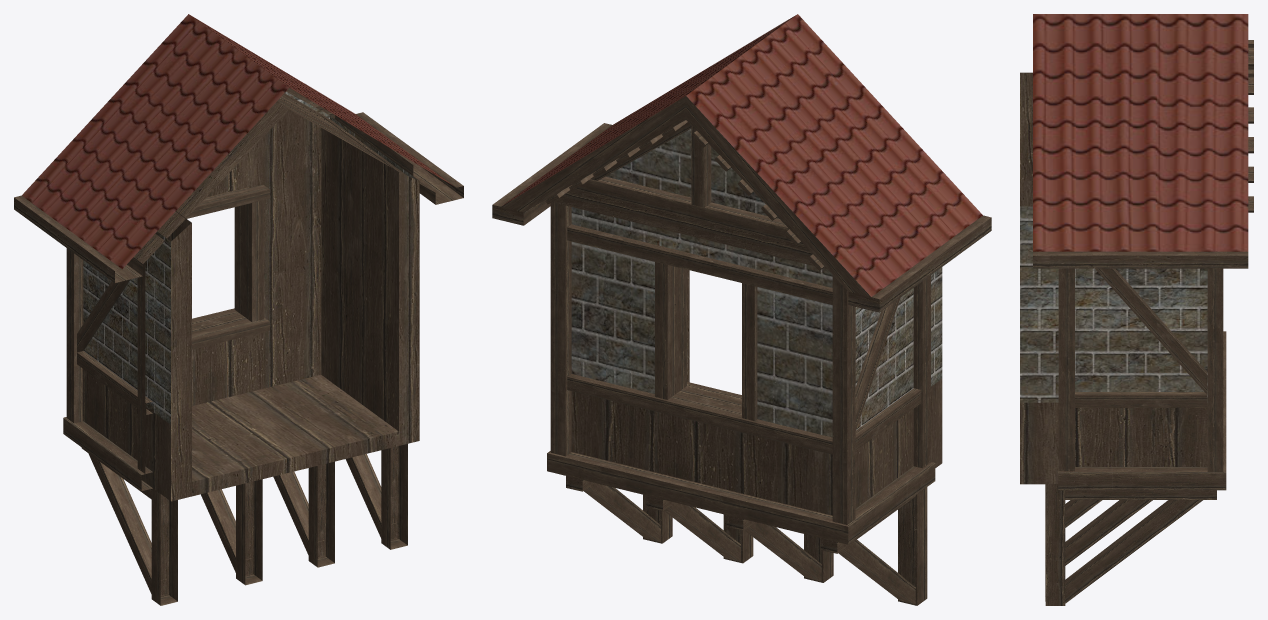
The model's file is ARC1010370.fbx.
3 views of the same model, side by side, from view 1: azimuth 30°, elevation 25°; view 2: azimuth 150°, elevation 25°; view 3: azimuth 270°, elevation 25° (orthographic). The views are drawn at different scales.
Visible parts, largest first — view 1: smARC1010370; view 2: smARC1010370; view 3: smARC1010370.
Boxes of the visible parts, bbox=[...] form: smARC1010370: bbox=[14, 14, 463, 605]; smARC1010370: bbox=[492, 14, 991, 605]; smARC1010370: bbox=[1020, 14, 1253, 605].
Size of the model in its own units: 377 by 508 by 204.
Materials: 1 (1 with a texture image).
